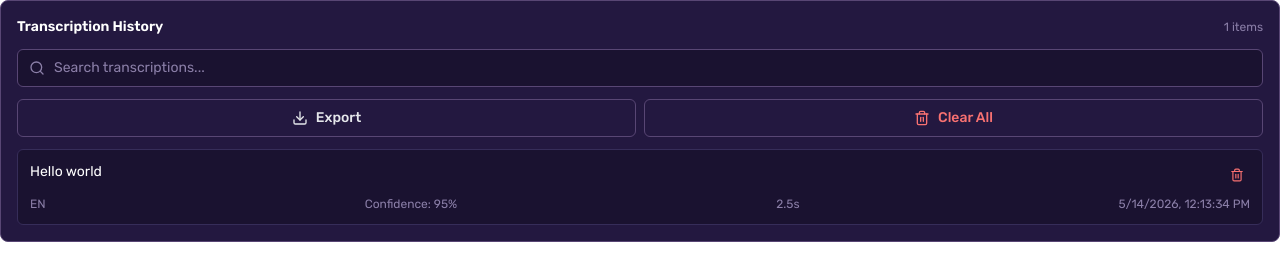
Test: shows no matches message when search has no results
Step 1. Type "xyz" into the field with placeholder "Search transcriptions..." → point(640, 68), box [17,49,1263,87]
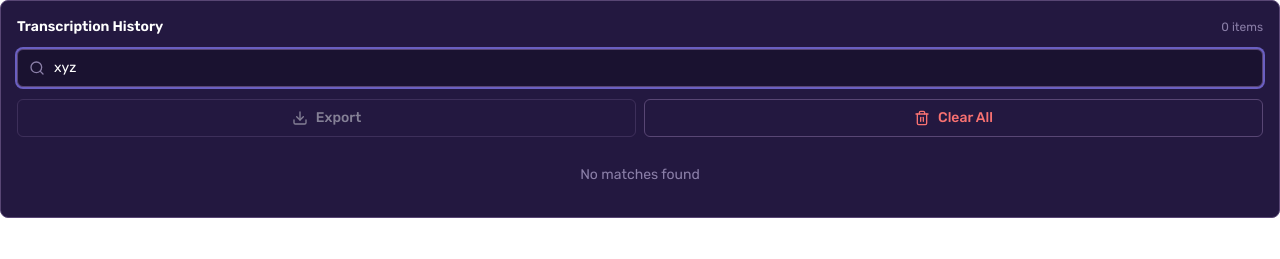
Check: the text "No matches found" is shown, box [580,166,700,183]
